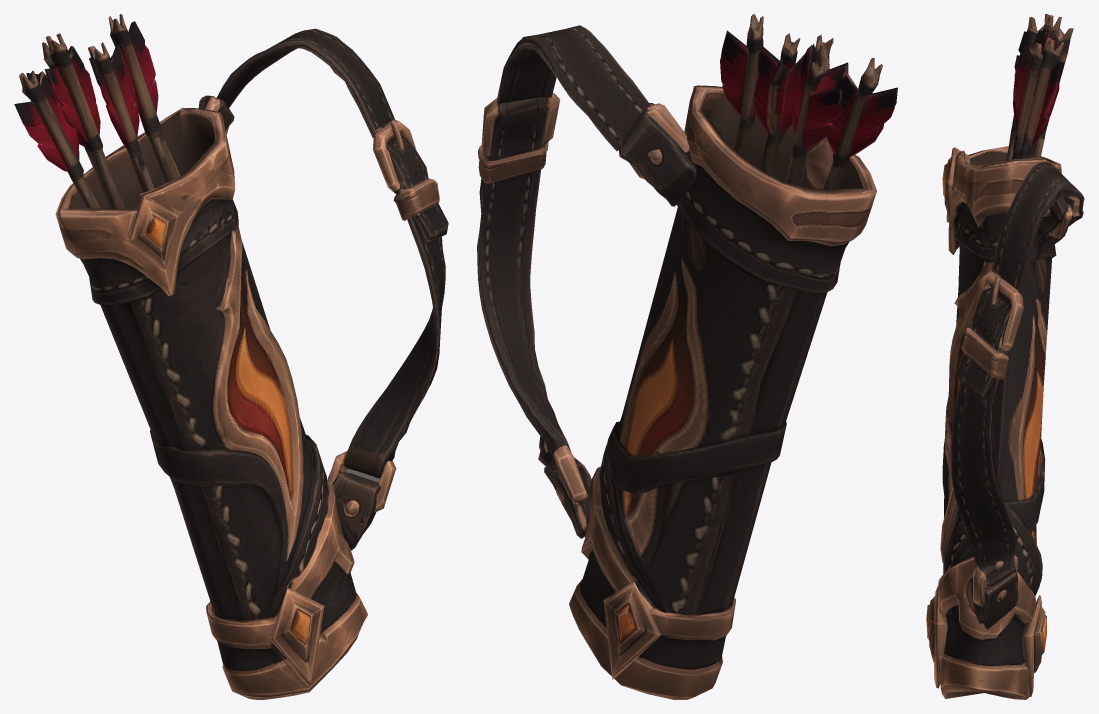
File: rl-quiver-ember.glb
3 renders of one model, left to right at view 1: azimuth 30°, elevation 25°; view 2: azimuth 150°, elevation 25°; view 3: azimuth 270°, elevation 25°, orthographic. The views are drawn at different scales.
Visible parts, largest first — view 1: Quiver; view 2: Quiver; view 3: Quiver.
Part boxes in pixels (left/top/right/bottom): Quiver: left=14, top=14, right=448, bottom=699; Quiver: left=477, top=14, right=897, bottom=699; Quiver: left=926, top=14, right=1084, bottom=699.
Size of the model in its own units: 0.5996 by 0.9517 by 0.2217.
Materials: 1 (1 with a texture image).
